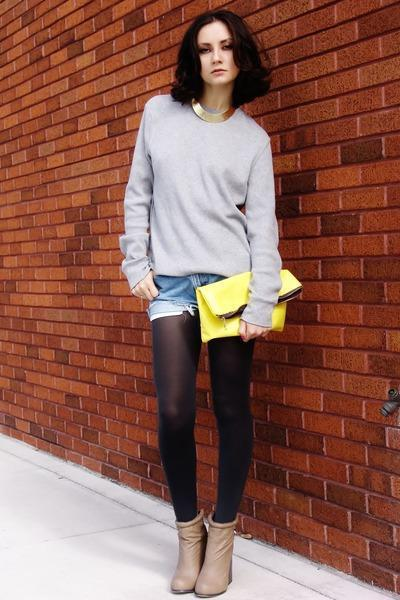bag: (198, 270, 308, 341)
jacket: (119, 94, 281, 323)
shoe: (170, 509, 239, 599)
shorts: (149, 272, 227, 320)
